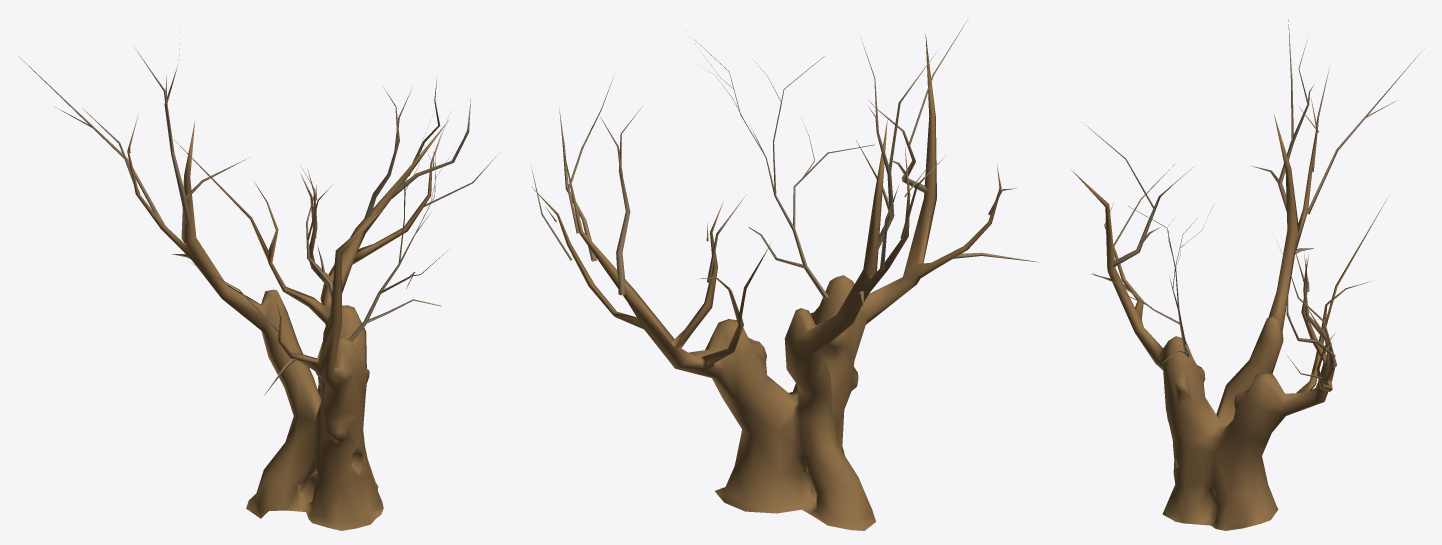
File: EndTree.fbx
3 views of the same model, side by side, from view 1: azimuth 30°, elevation 25°; view 2: azimuth 150°, elevation 25°; view 3: azimuth 270°, elevation 25° (orthographic). The views are drawn at different scales.
Visible parts, largest first — view 1: Tree_Dry_1, Tree_Dry_1_branches; view 2: Tree_Dry_1, Tree_Dry_1_branches; view 3: Tree_Dry_1, Tree_Dry_1_branches.
Part boxes in pixels (left/top/right/bottom): Tree_Dry_1: left=127, top=115, right=449, bottom=530; Tree_Dry_1_branches: left=19, top=28, right=498, bottom=395; Tree_Dry_1: left=531, top=34, right=1001, bottom=530; Tree_Dry_1_branches: left=531, top=20, right=1038, bottom=306; Tree_Dry_1: left=1071, top=98, right=1387, bottom=530; Tree_Dry_1_branches: left=1086, top=19, right=1424, bottom=378.
Bounding box in the file's own units: 92.47 × 104 × 77.48.
